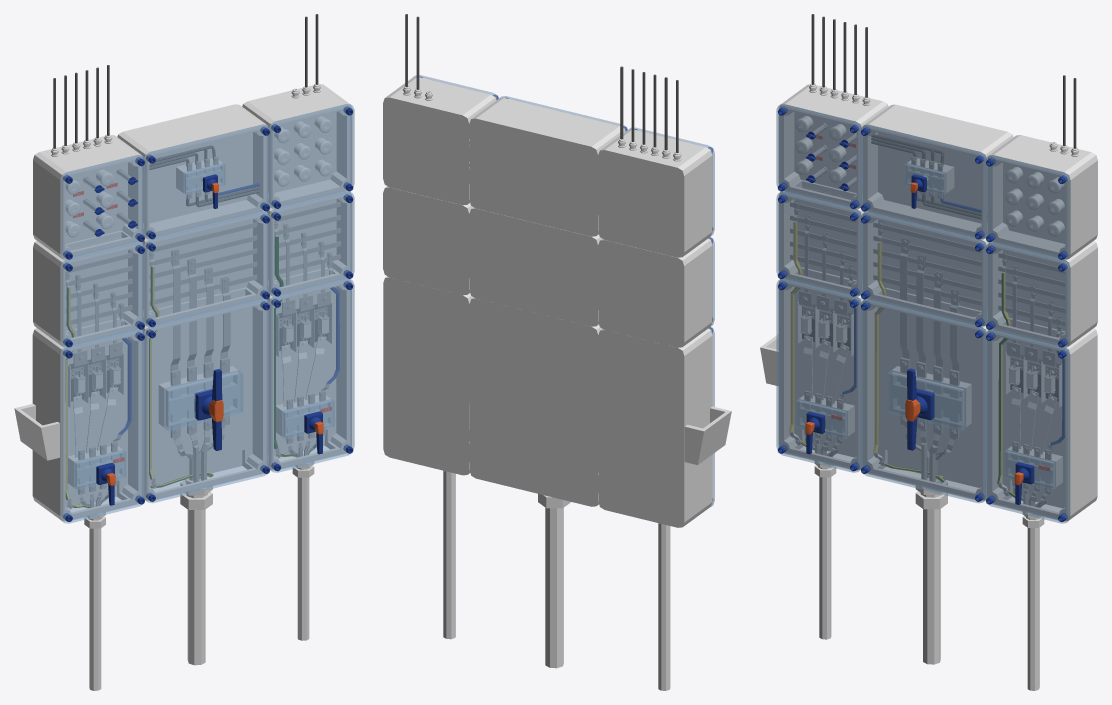
File: Main-Distributor-V001-10.fbx
3 renders of one model, left to right at view 1: azimuth 30°, elevation 25°; view 2: azimuth 150°, elevation 25°; view 3: azimuth 330°, elevation 25°, orthographic. The views are drawn at different scales.
Visible parts, largest first — view 1: 000-box, 008-box-cover, 007-box-cover, 009-box-cover, 005-box-cover, 002-box-cover, 003-box-cover, 004-box-cover, 006-box-cover, 001-box-cover, Cube, 08-swifel-M (+28 smaller); view 2: 000-box, 08-swifel-M, 09-swifel-R, 07-swifel-L, 01-swifel-cables; view 3: 000-box, 008-box-cover, 009-box-cover, 007-box-cover, 005-box-cover, 002-box-cover, 003-box-cover, 006-box-cover, 004-box-cover, 001-box-cover, Cube, 008-box (+25 smaller).
Boxes of the visible parts, x1,y1,x2,y2 form: 000-box: (14, 84, 351, 520); 008-box-cover: (144, 299, 270, 503); 007-box-cover: (60, 330, 145, 523); 009-box-cover: (269, 279, 354, 472); 005-box-cover: (144, 212, 270, 327); 002-box-cover: (144, 124, 270, 240); 003-box-cover: (269, 104, 354, 209); 004-box-cover: (60, 243, 145, 348); 006-box-cover: (269, 192, 354, 297); 001-box-cover: (60, 155, 145, 260); Cube: (65, 202, 340, 325); 08-swifel-M: (180, 477, 212, 665); 000-box: (383, 77, 731, 527); 08-swifel-M: (538, 494, 570, 668); 09-swifel-R: (443, 470, 455, 639); 07-swifel-L: (658, 523, 670, 690); 01-swifel-cables: (620, 66, 678, 152); 000-box: (760, 84, 1097, 520); 008-box-cover: (860, 299, 986, 503); 009-box-cover: (984, 330, 1070, 523); 007-box-cover: (776, 279, 861, 472); 005-box-cover: (860, 212, 986, 328); 002-box-cover: (860, 124, 986, 240); 003-box-cover: (985, 155, 1070, 260); 006-box-cover: (985, 243, 1070, 348); 004-box-cover: (776, 192, 861, 297); 001-box-cover: (776, 104, 861, 210); Cube: (790, 202, 1065, 325); 008-box: (892, 357, 971, 437).
Size of the model in its own units: 746 by 1391 by 173.
